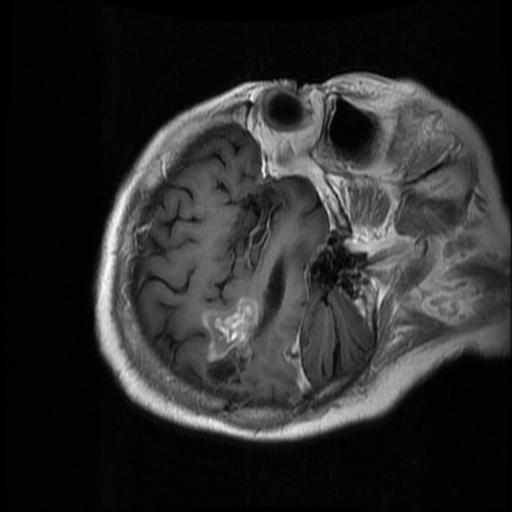glioma: (200, 257, 286, 385)
